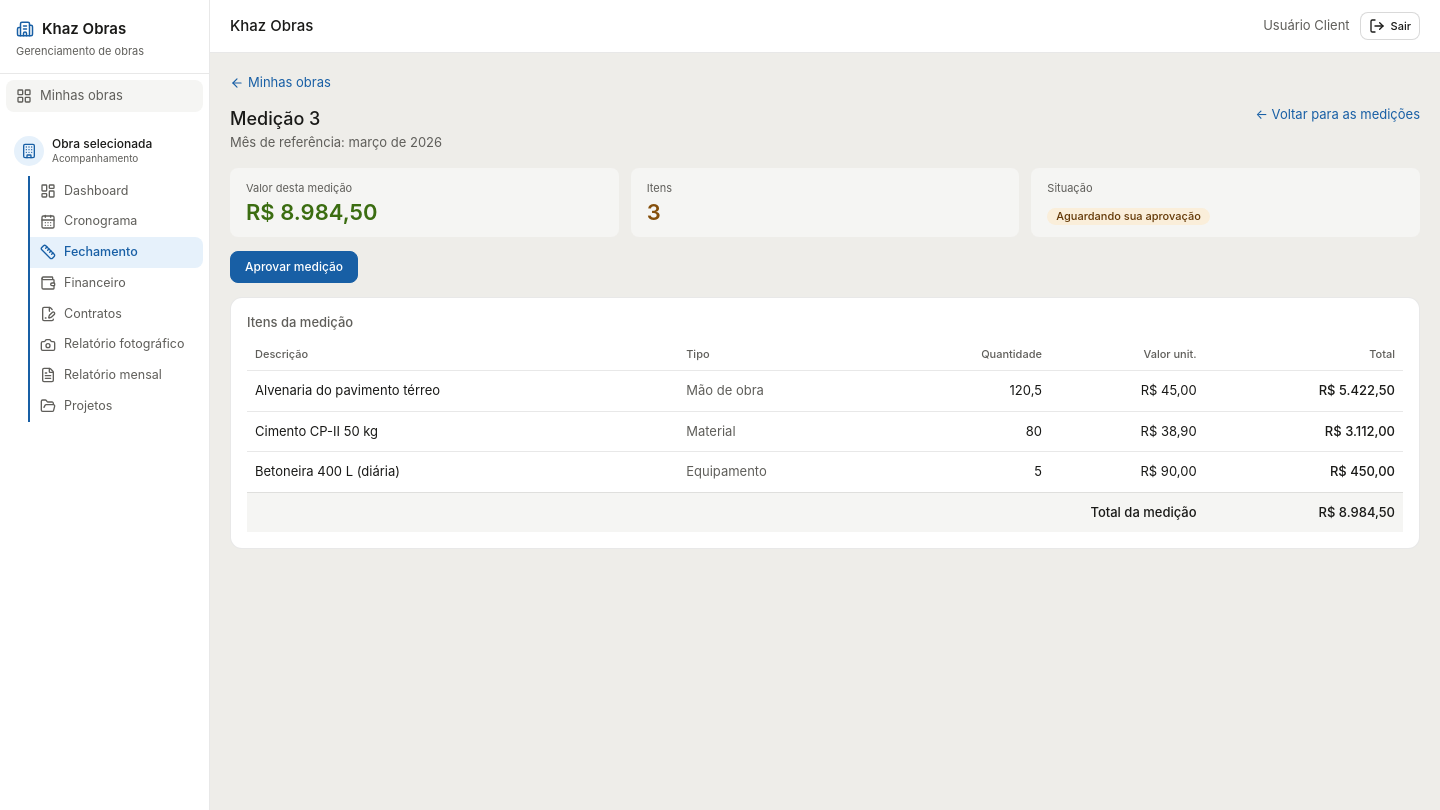
Test: Fechamento - detalhe (cliente) › fluxo de aprovação › cancelar a confirmação não envia nada e volta ao botão inicial
Click the button "Aprovar medição": (294, 266) [230,250,358,282]
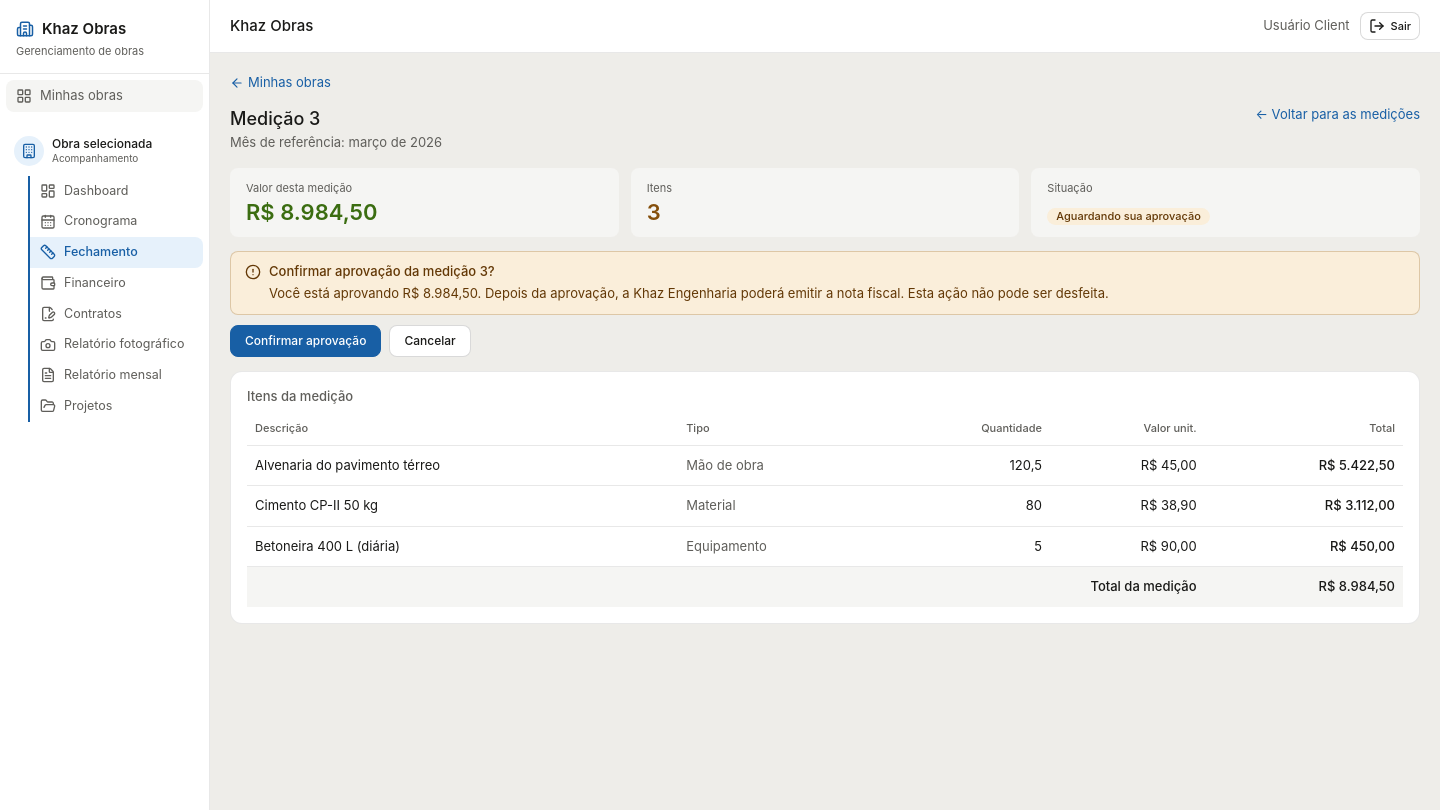
Click the button "Cancelar": (430, 341) [389,325,471,357]
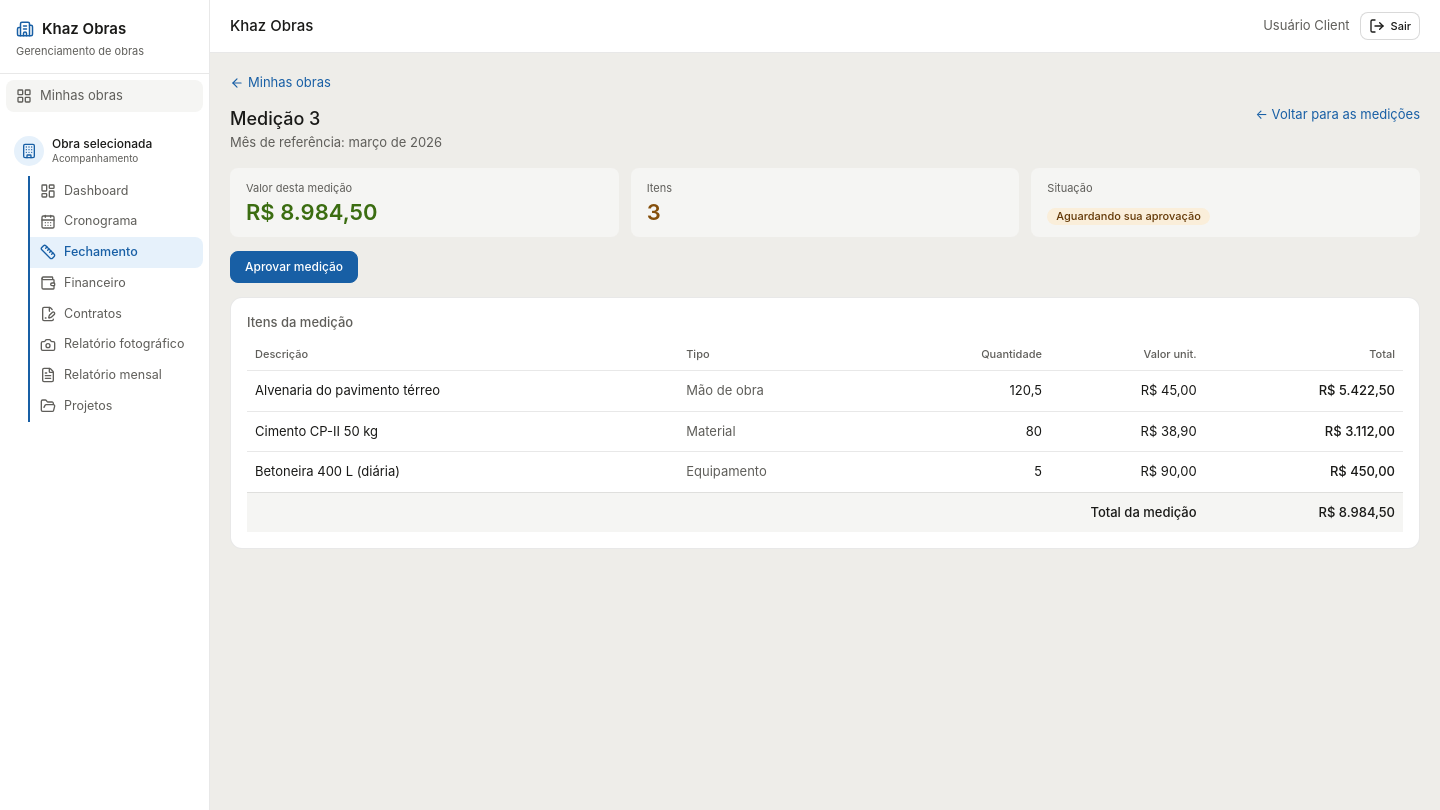
Expected: the button "Aprovar medição" is shown, [230,250,358,282]
Expected: the text "Confirmar aprovação" is gone
